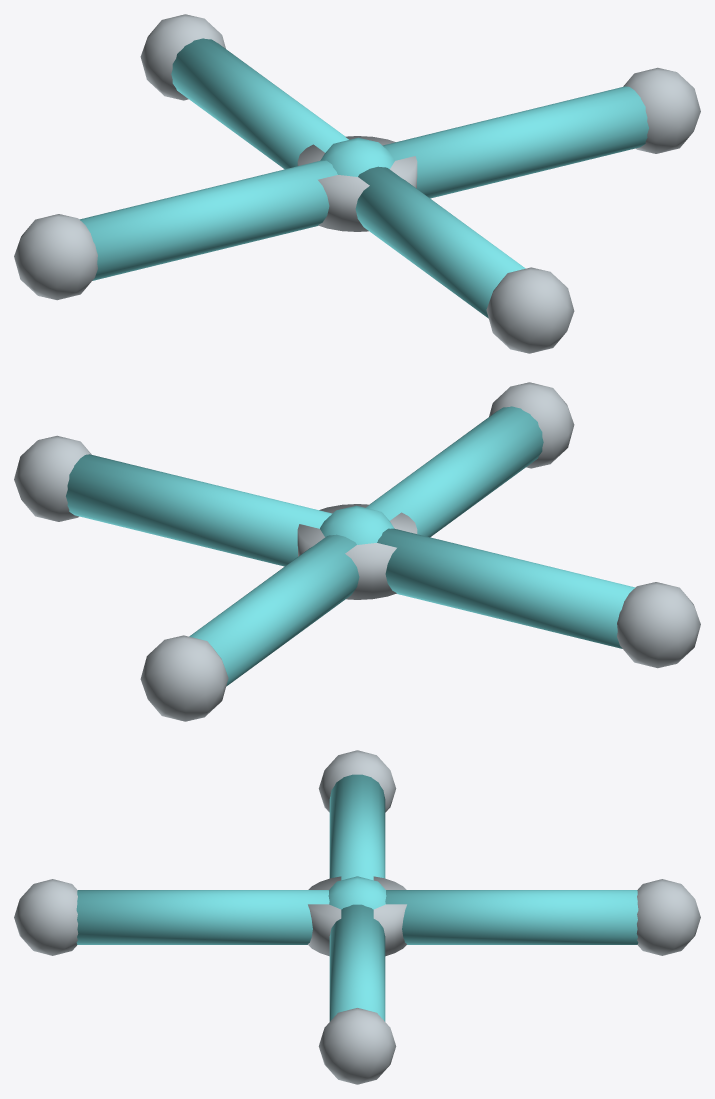
Rendered from conduit_cross_enhanced.glb.
3 views of the same model, one above another, from view 1: azimuth 30°, elevation 25°; view 2: azimuth 150°, elevation 25°; view 3: azimuth 270°, elevation 25° (orthographic). The views are drawn at different scales.
Parts seen in each view (by area): view 1: Conduit_cyan, Coupler_steel, JunctionCap_steel, Junction_cyan; view 2: Conduit_cyan, Coupler_steel, JunctionCap_steel, Junction_cyan; view 3: Conduit_cyan, Coupler_steel, JunctionCap_steel, Junction_cyan.
Part boxes in pixels (x1,y1,x2,y2): Conduit_cyan: (79, 38, 648, 318); Coupler_steel: (14, 14, 700, 353); JunctionCap_steel: (297, 136, 417, 231); Junction_cyan: (320, 137, 394, 176); Conduit_cyan: (66, 406, 635, 686); Coupler_steel: (14, 382, 700, 721); JunctionCap_steel: (297, 504, 417, 599); Junction_cyan: (320, 505, 394, 544); Conduit_cyan: (76, 774, 638, 1021); Coupler_steel: (14, 750, 700, 1084); JunctionCap_steel: (308, 876, 406, 956); Junction_cyan: (328, 876, 386, 909).
Size of the model in its own units: 2.48 by 0.3 by 2.48.
